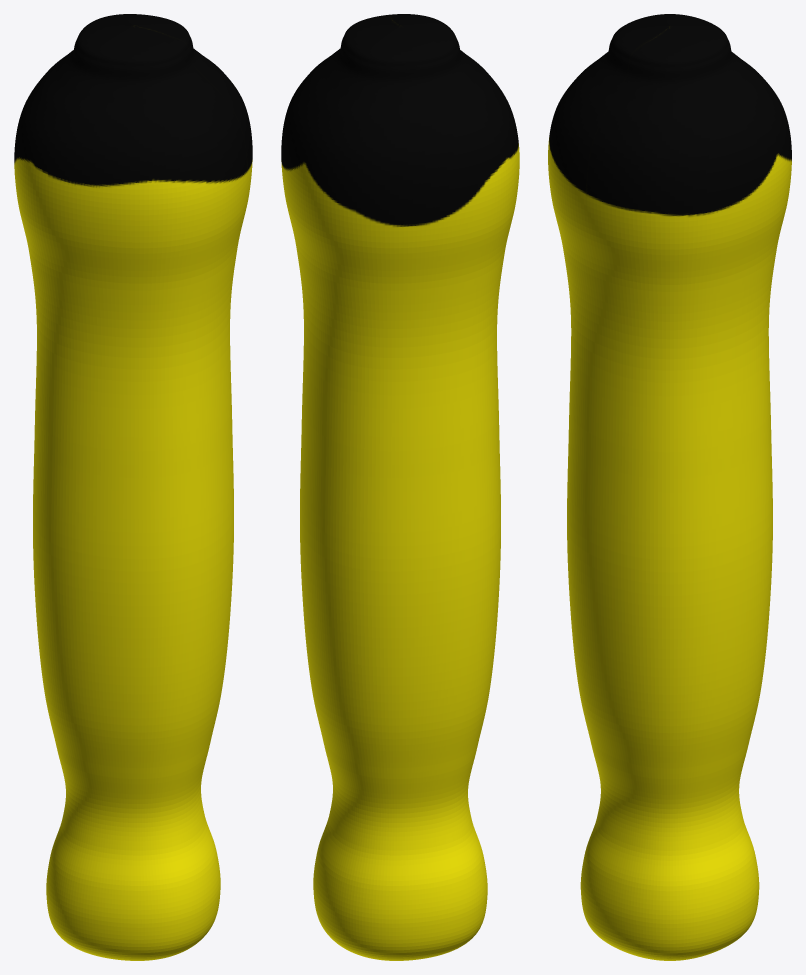
File: defenseur.glb
3 views of the same model, side by side, from view 1: azimuth 30°, elevation 25°; view 2: azimuth 150°, elevation 25°; view 3: azimuth 270°, elevation 25° (orthographic).
Parts seen in each view (by area): view 1: node_id3; view 2: node_id3; view 3: node_id3.
Part boxes in pixels (<box>): node_id3: <box>14,14,252,960</box>; node_id3: <box>281,14,519,960</box>; node_id3: <box>548,14,791,960</box>.
Size of the model in its own units: 0.1223 by 0.512 by 0.1223.
1 material, 1 textured.
